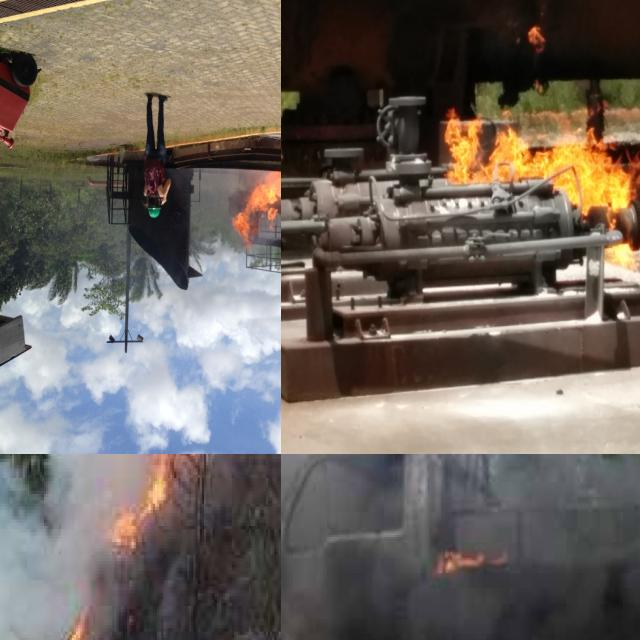fire: (444, 92, 640, 263), (104, 462, 166, 548), (229, 165, 281, 252), (427, 533, 506, 588), (42, 599, 91, 640)
smoke: (281, 454, 640, 640), (0, 454, 259, 640)
